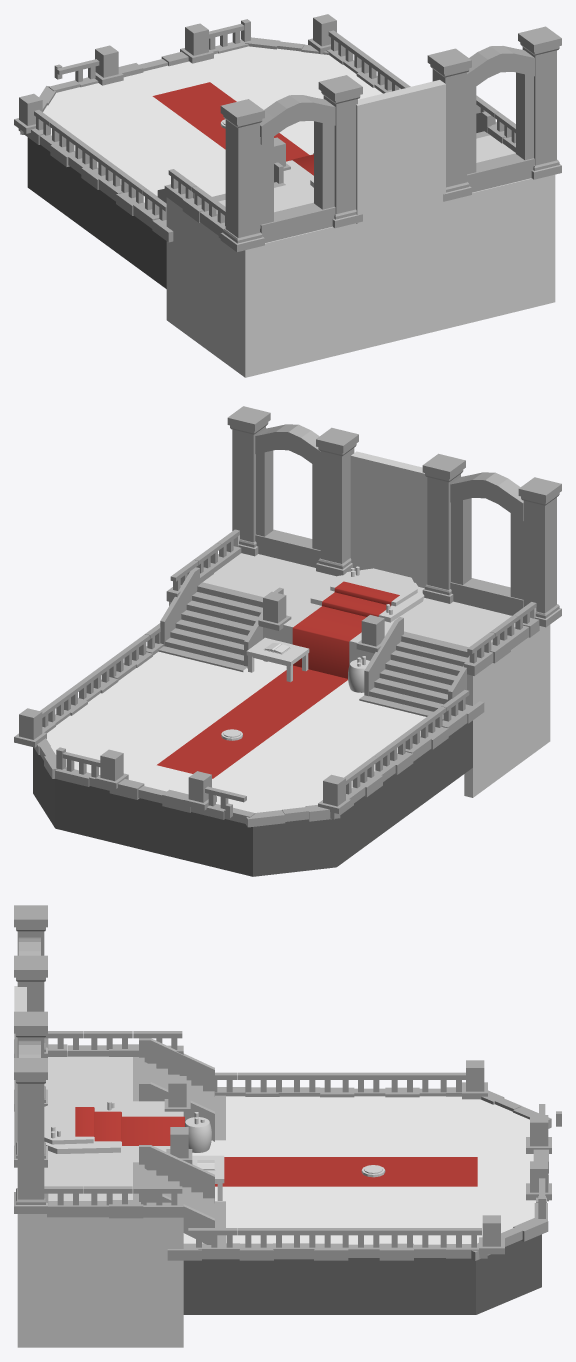
File: BlockOut 1.fbx
3 views of the same model, one above another, from view 1: azimuth 30°, elevation 25°; view 2: azimuth 150°, elevation 25°; view 3: azimuth 270°, elevation 25° (orthographic). The views are drawn at different scales.
Visible parts, largest first — view 1: Cube.067, Cube.141, Cube.017, Cube.020, Cube.060, Cube.016, Cube.015, Cube.061, Cube.044, Cube.045, Cube.021, Plane.003 (+14 smaller); view 2: Cube.067, Plane.003, Cube.020, Cube.141, Cube.015, Cube.017, Cube.016, Cube.014, Cube.060, Cube.021, Cube.045, Cube.044 (+38 smaller); view 3: Cube.067, Cube.014, Cube.016, Plane.003, Cube.018, Cube.017, Cube.020, Cube.061, Cube.015, Cube.021, Floor_01, Cube.059 (+22 smaller).
Part boxes in pixels (x1,y1,x2,y2): Cube.067: (166, 135, 555, 377); Cube.141: (356, 80, 445, 224); Cube.017: (56, 123, 218, 251); Cube.020: (27, 83, 158, 207); Cube.060: (220, 99, 264, 251); Cube.016: (210, 46, 356, 97); Cube.015: (107, 59, 262, 122); Cube.061: (518, 26, 561, 179); Cube.044: (318, 75, 362, 228); Cube.045: (427, 48, 471, 201); Cube.021: (115, 167, 225, 288); Plane.003: (152, 82, 313, 175); Cube.067: (169, 553, 550, 797); Plane.003: (157, 581, 399, 778); Cube.020: (204, 763, 364, 876); Cube.141: (350, 451, 427, 588); Cube.015: (103, 739, 262, 864); Cube.017: (263, 721, 422, 846); Cube.016: (33, 716, 161, 839); Cube.014: (69, 673, 219, 738); Cube.060: (518, 477, 561, 627); Cube.021: (322, 692, 472, 803); Cube.045: (316, 427, 358, 576); Cube.044: (422, 453, 465, 603); Cube.067: (17, 1052, 183, 1347); Cube.014: (290, 1199, 416, 1314); Cube.016: (416, 1199, 541, 1314); Plane.003: (75, 1107, 477, 1186); Cube.018: (183, 1199, 290, 1314); Cube.017: (290, 1096, 416, 1145); Cube.020: (416, 1096, 529, 1145); Cube.061: (14, 1058, 47, 1213); Cube.015: (416, 1146, 533, 1198); Cube.021: (210, 1096, 290, 1145); Floor_01: (290, 1146, 416, 1198); Cube.059: (139, 1038, 214, 1141).
Size of the model in its own units: 15.77 by 12.21 by 21.82.
